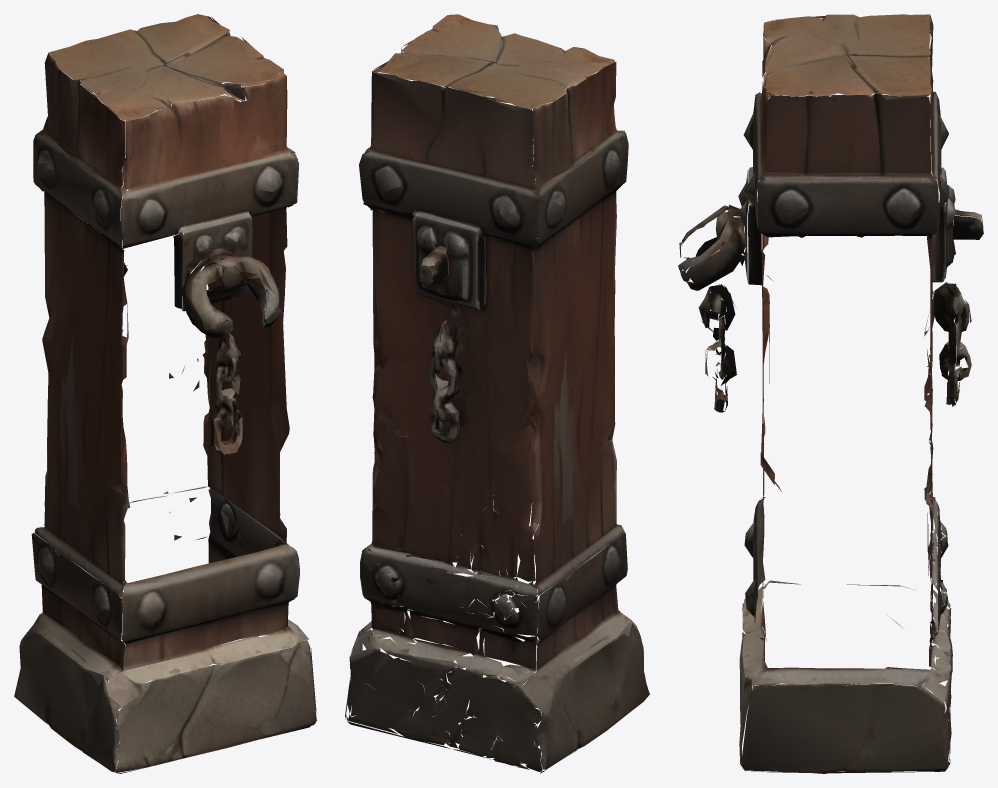
The model's file is corridorPillar.glb.
3 views of the same model, side by side, from view 1: azimuth 30°, elevation 25°; view 2: azimuth 150°, elevation 25°; view 3: azimuth 270°, elevation 25° (orthographic). The views are drawn at different scales.
Visible parts, largest first — view 1: Prop_corridorPillar; view 2: Prop_corridorPillar; view 3: Prop_corridorPillar.
Boxes of the visible parts, x1=… form: Prop_corridorPillar: x1=14, y1=14, x2=316, y2=773; Prop_corridorPillar: x1=345, y1=14, x2=649, y2=773; Prop_corridorPillar: x1=678, y1=14, x2=983, y2=773.
Bounding box in the file's own units: 1.97 × 6 × 2.46.
Materials: 1 (1 with a texture image).
